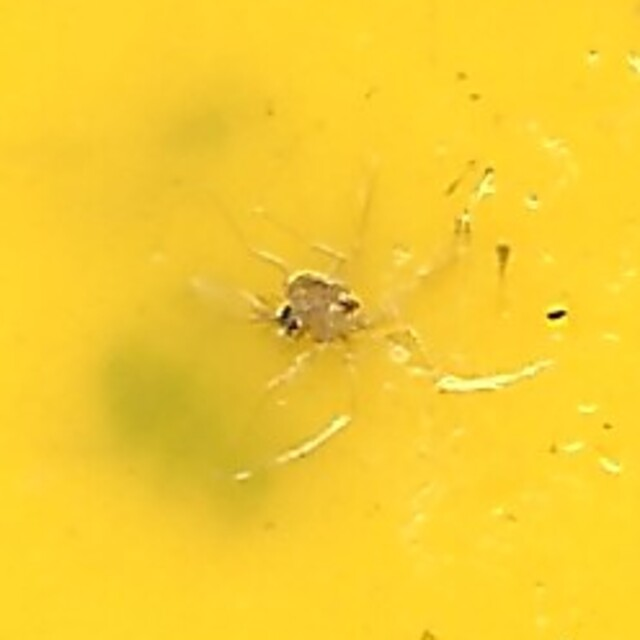Nematocera: (258, 268, 382, 372)
